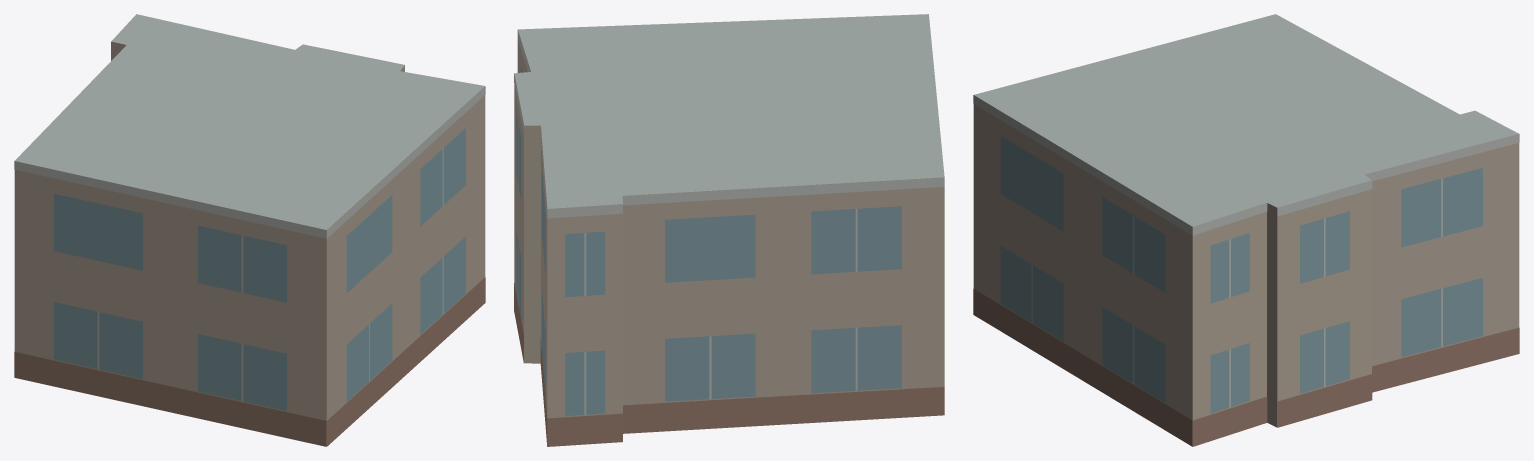
Rendered from survey-upis-32577613.glb.
3 views of the same model, side by side, from view 1: azimuth 30°, elevation 25°; view 2: azimuth 150°, elevation 25°; view 3: azimuth 270°, elevation 25° (orthographic). The views are drawn at different scales.
Parts seen in each view (by area): view 1: survey-upis-32577613.tmp; view 2: survey-upis-32577613.tmp; view 3: survey-upis-32577613.tmp.
Boxes of the visible parts, bbox=[...] form: survey-upis-32577613.tmp: bbox=[14, 14, 485, 446]; survey-upis-32577613.tmp: bbox=[514, 14, 944, 446]; survey-upis-32577613.tmp: bbox=[973, 14, 1519, 446].
Size of the model in its own units: 12.67 by 6.1 by 13.73.
